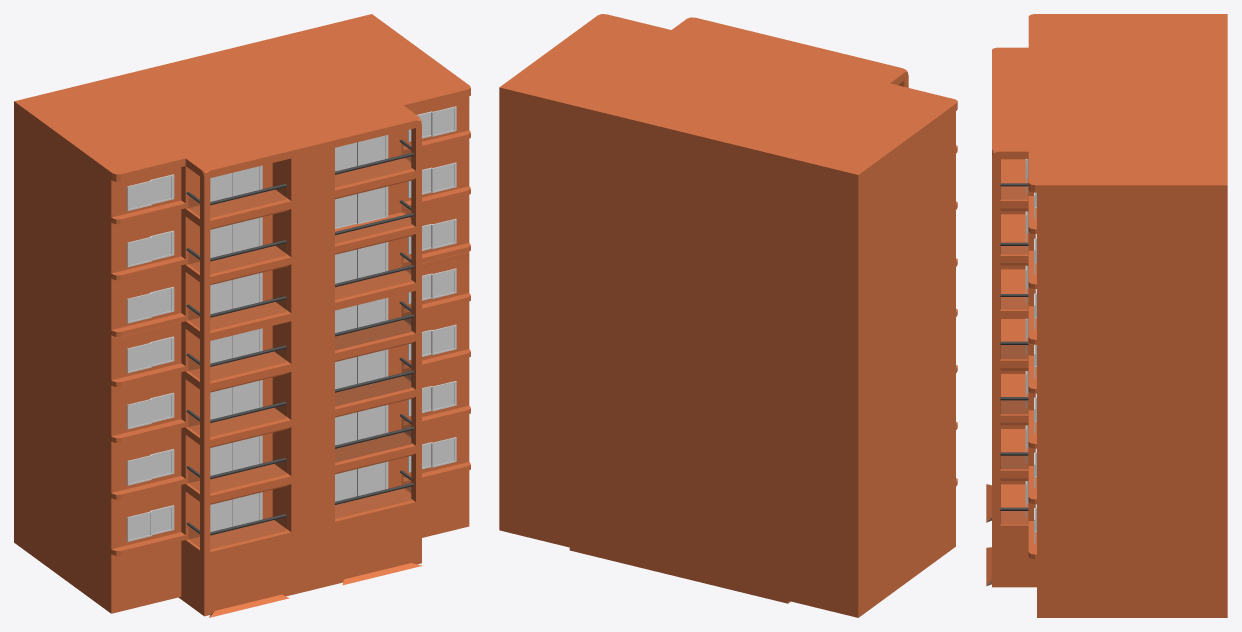
The model's file is prédioVariante2.fbx.
3 views of the same model, side by side, from view 1: azimuth 30°, elevation 25°; view 2: azimuth 150°, elevation 25°; view 3: azimuth 270°, elevation 25° (orthographic). The views are drawn at different scales.
Visible parts, largest first — view 1: Cube, Cube.001, varanda.001, varanda.003, varanda, varanda.002; view 2: Cube, Cube.001; view 3: Cube.001, Cube, varanda, varanda.002, varanda.001, varanda.003.
Boxes of the visible parts, x1,y1,x2,y2 form: Cube: (14,251,470,617); Cube.001: (14,14,470,342); varanda.001: (127,268,456,541); varanda.003: (127,106,456,323); varanda: (186,301,413,548); varanda.002: (186,139,413,329); Cube: (499,253,957,617); Cube.001: (499,14,957,344); Cube.001: (992,14,1227,351); Cube: (986,311,1227,617); varanda: (1000,341,1028,523); varanda.002: (1000,183,1028,308); varanda.001: (1025,318,1036,543); varanda.003: (1025,159,1036,329).
Bounding box in the file's own units: 3261 × 3869 × 1940.
6 materials, 1 textured.
